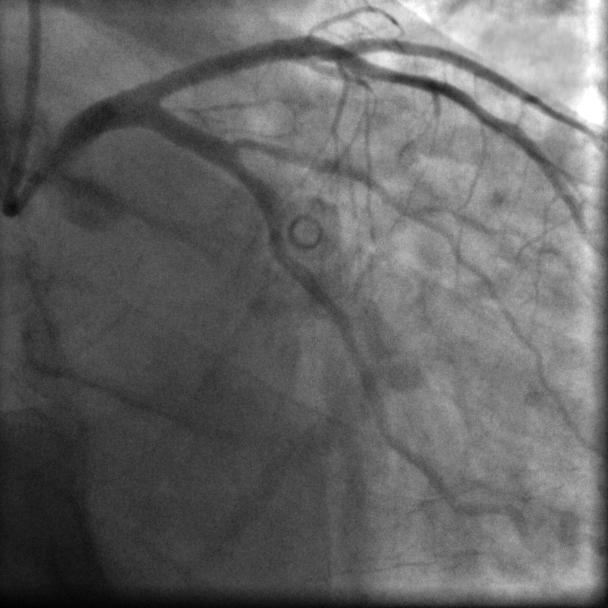Stenosis: (229, 129, 269, 156)
